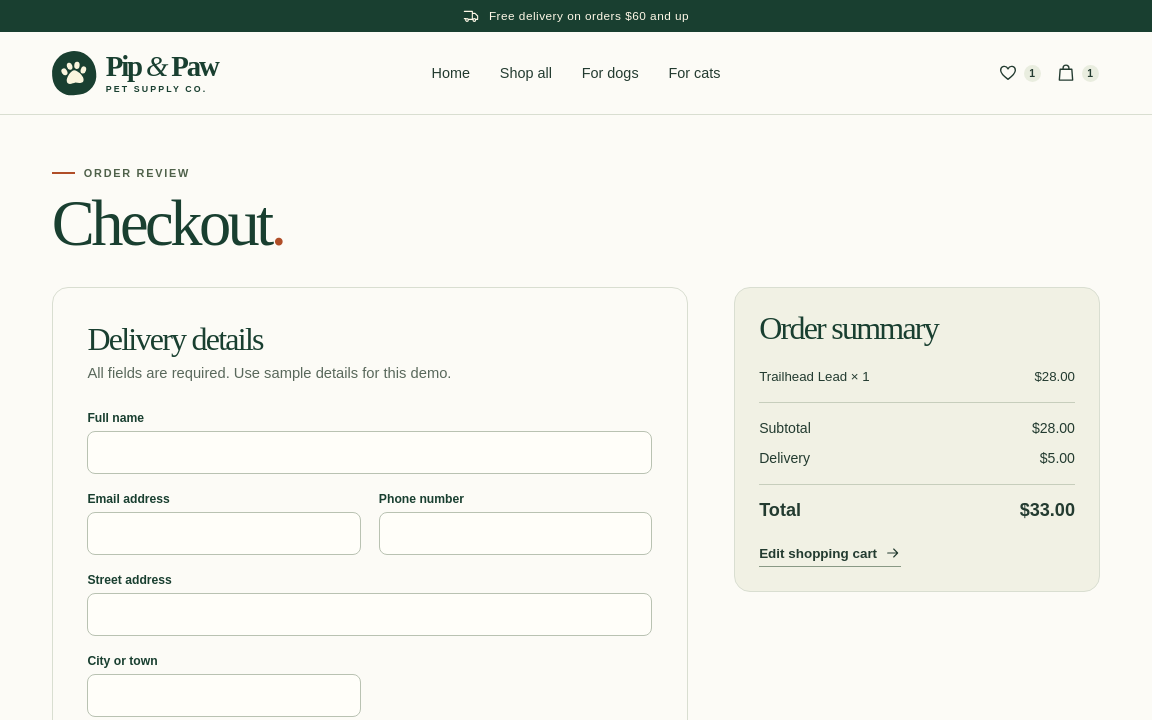
Test: shopping through the rendered application › confirms a valid order with its reference and original totals, clears the cart and retains the wishlist
This screenshot has width=1152, height=720.
Type "Demo Shopper" into the field labelled "Full name".
click(370, 452); type("Demo Shopper")  # box x1=87 y1=431 x2=652 y2=474
Type "shopper@example.com" into the field labelled "Email address".
click(224, 534); type("shopper@example.com")  # box x1=87 y1=512 x2=361 y2=555
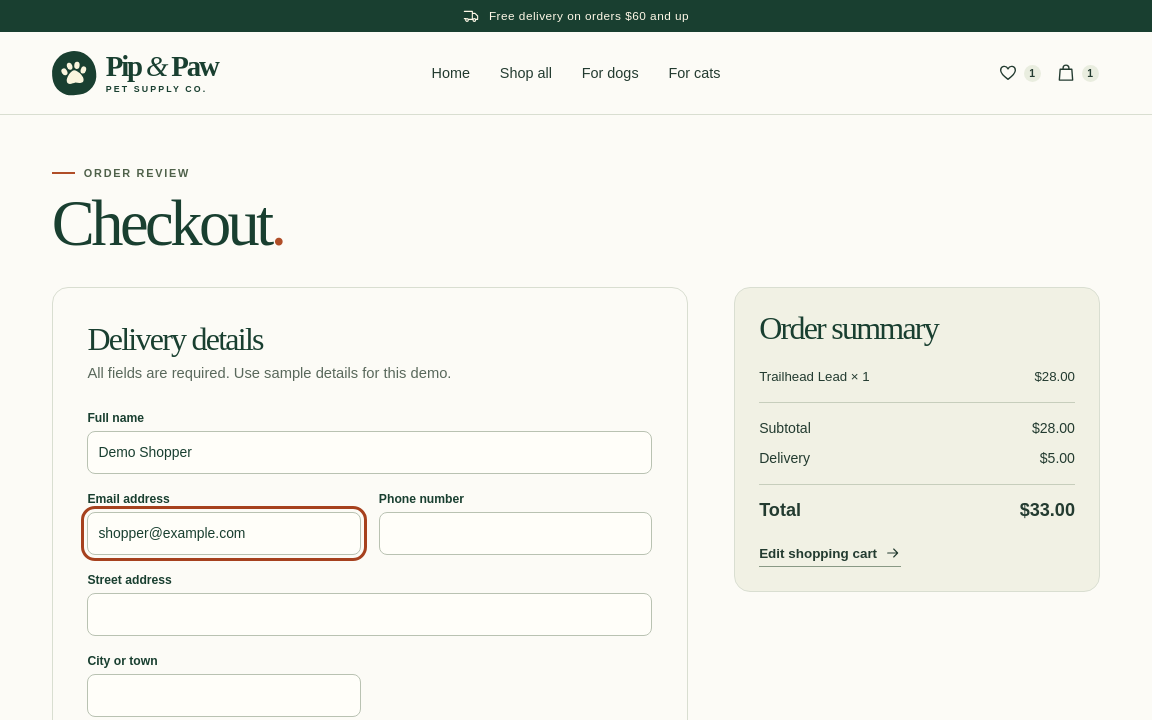
Type "+961 70 123 456" into the field labelled "Phone number".
click(516, 534); type("+961 70 123 456")  # box x1=379 y1=512 x2=652 y2=555
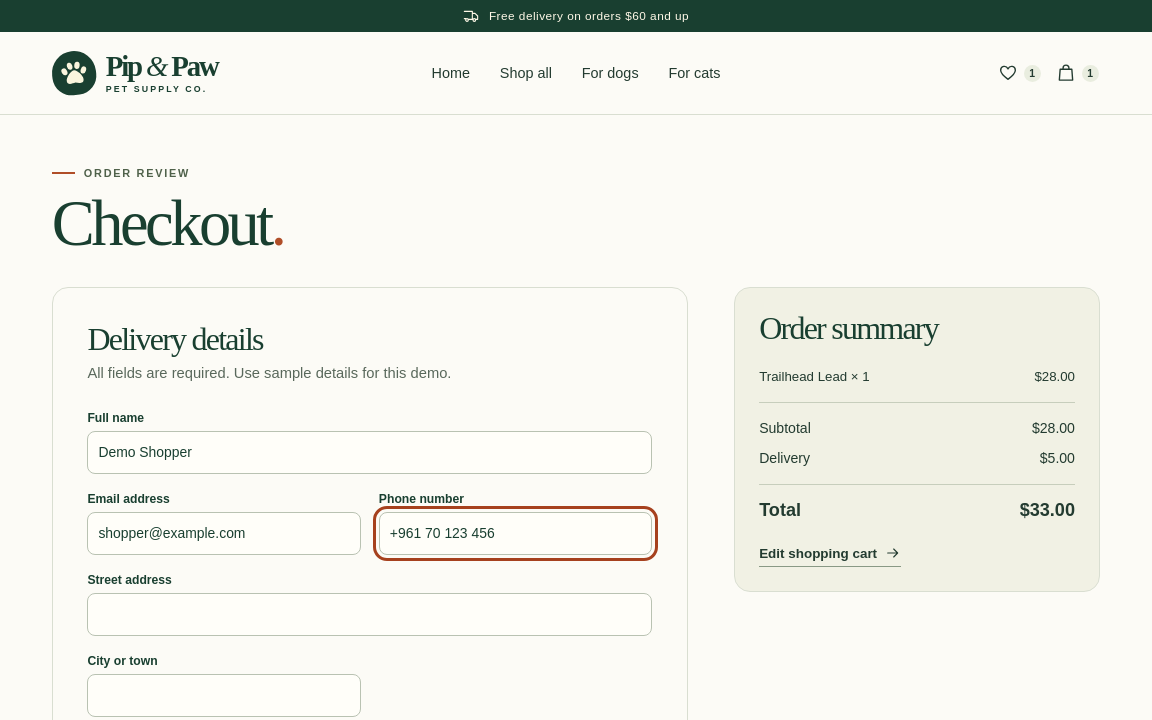
Type "12 Cedar Street" into the field labelled "Street address".
click(370, 614); type("12 Cedar Street")  # box x1=87 y1=593 x2=652 y2=636
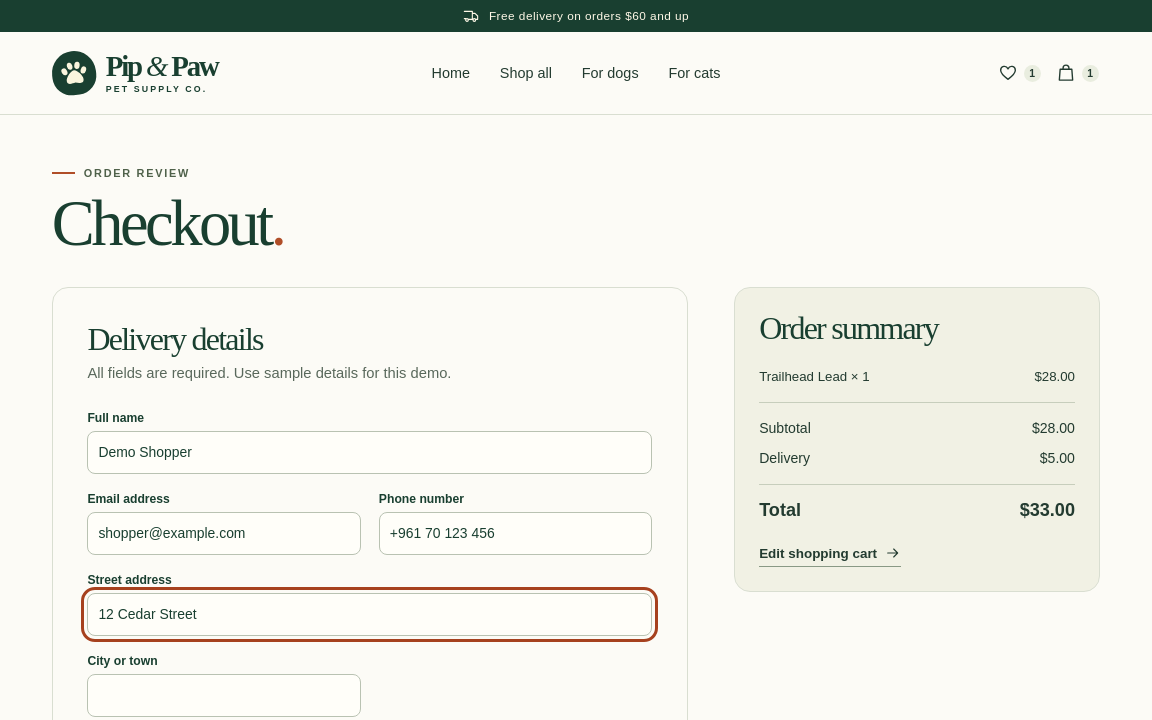
Type "Saida" into the field labelled "City or town".
click(224, 696); type("Saida")  # box x1=87 y1=674 x2=361 y2=717
(page scrolled)
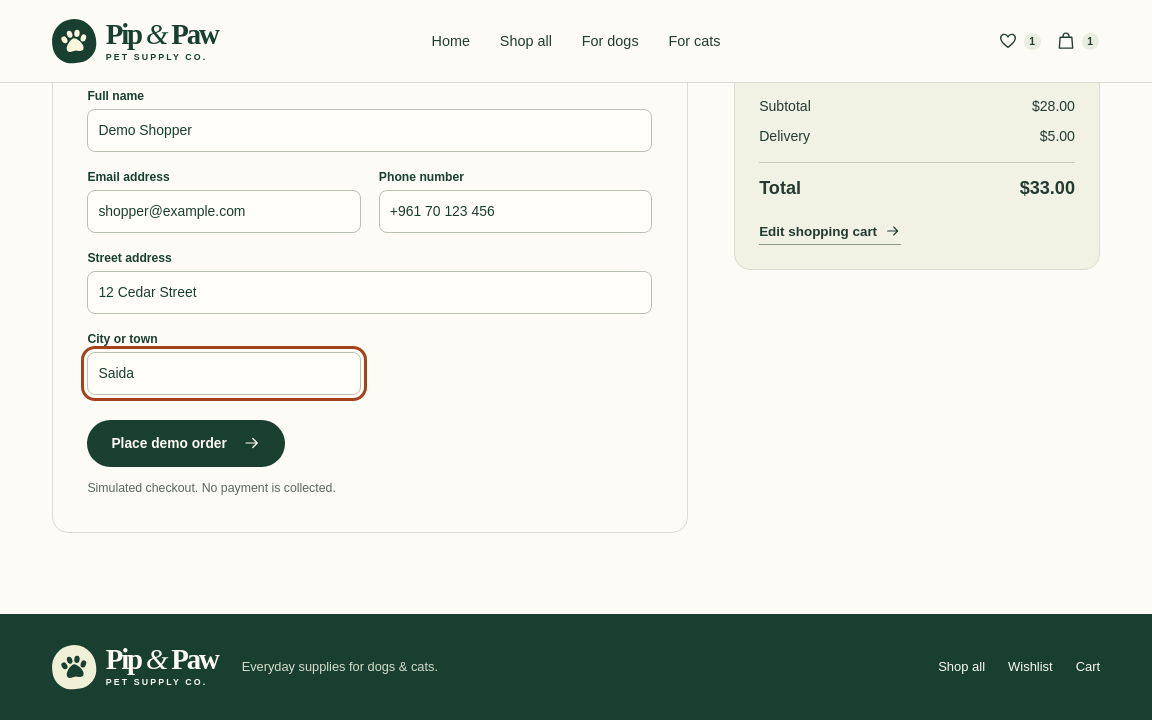
Click the button "Place demo order".
click(186, 444)  # box x1=87 y1=420 x2=285 y2=467
(page scrolled)
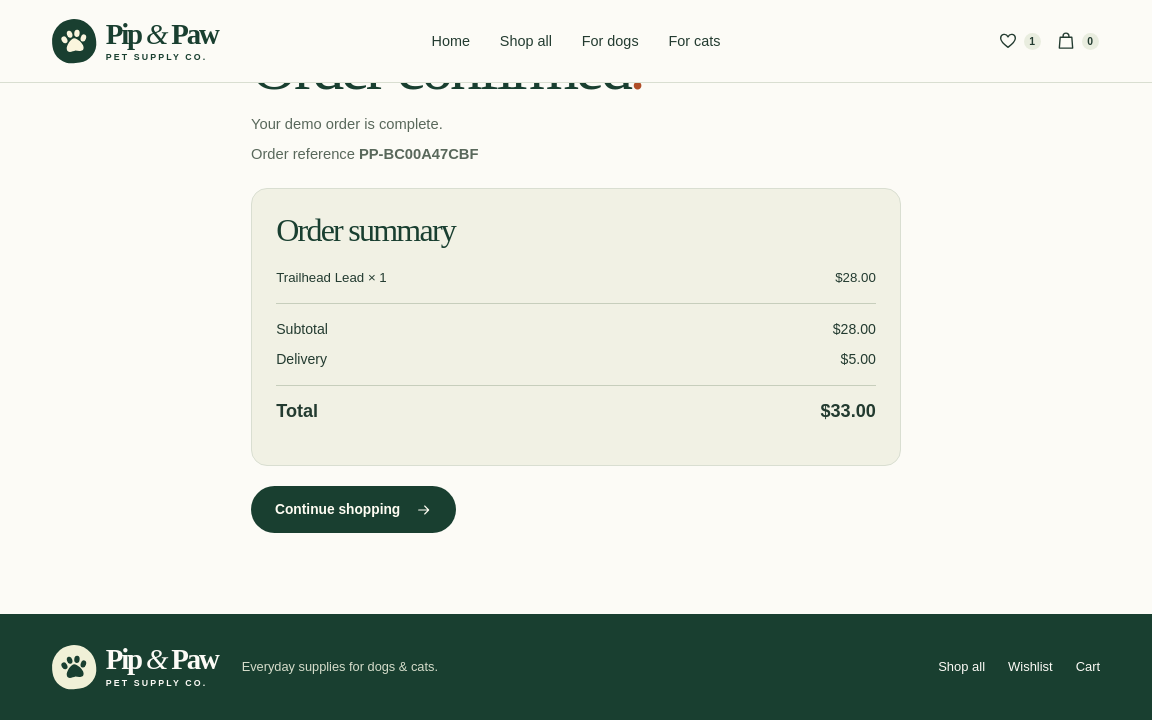
Expected: the text "Trailhead Lead × 1" is shown, x1=276 y1=270 x2=387 y2=285
Expected: the heading "Order confirmed." is shown, x1=251 y1=32 x2=642 y2=103
Expected: the link named "Cart, 0 items" is shown, x1=1056 y1=31 x2=1099 y2=51
Click the link named "Wishlist, 1 saved".
click(1019, 41)  # box x1=998 y1=31 x2=1041 y2=51
(page scrolled)
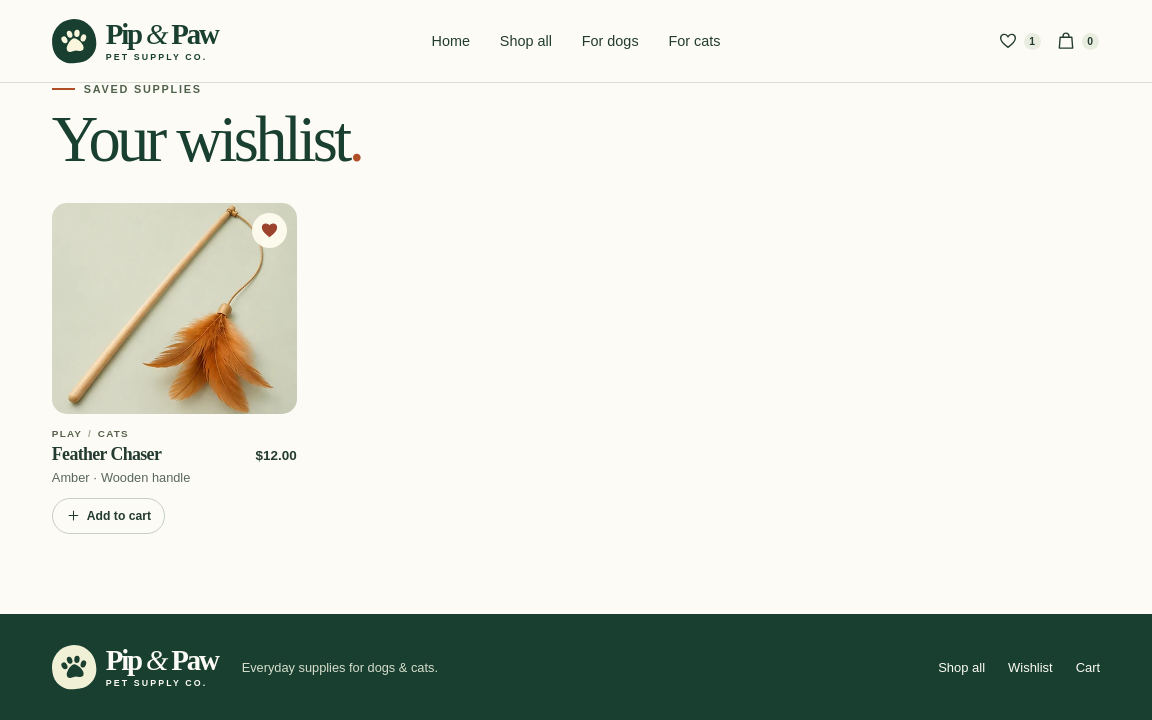
Expected: the element "Feather Chaser" is shown, x1=52 y1=203 x2=297 y2=534
